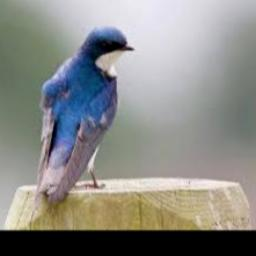Swallow: (37, 27, 133, 204)
